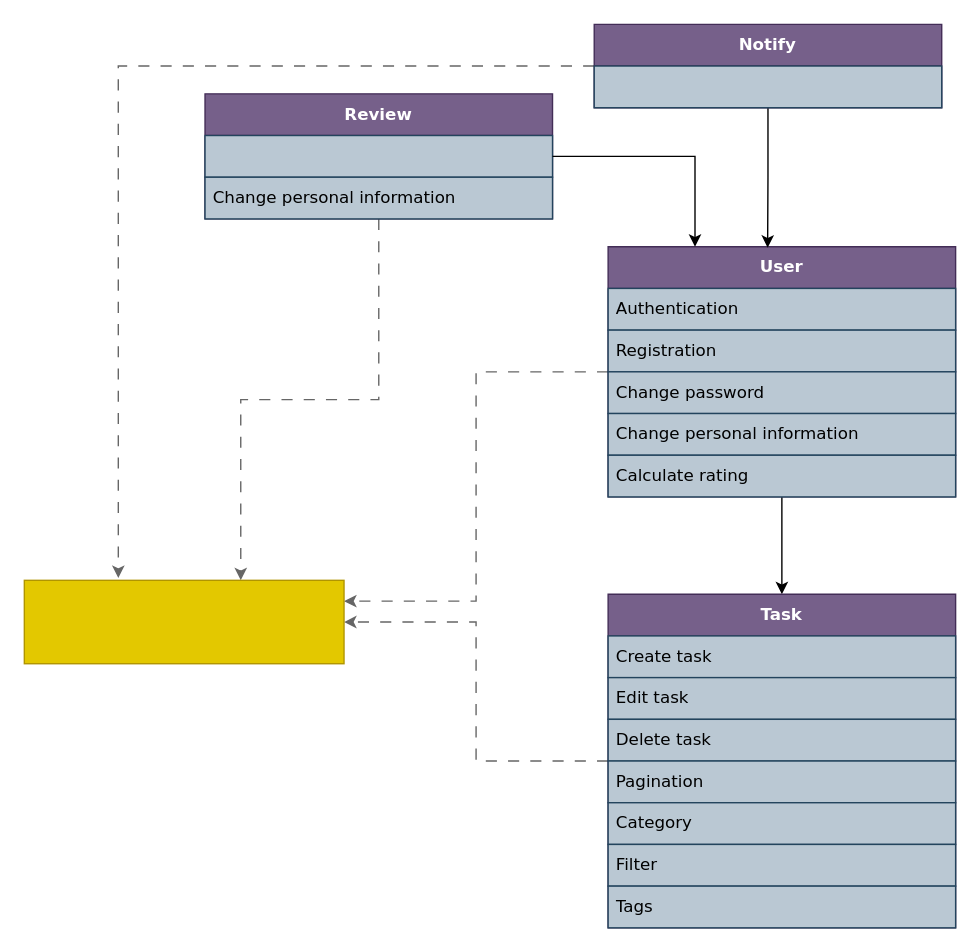
The diagram is 980 pixels wide and 952 high, and some of its shapes have lost their labels. Each missing label, with the centre of its shape:
"BFF (Backend For Frontend)" belongs at (183,621).
"Create review" belongs at (378,155).
"New task" belongs at (767,86).
